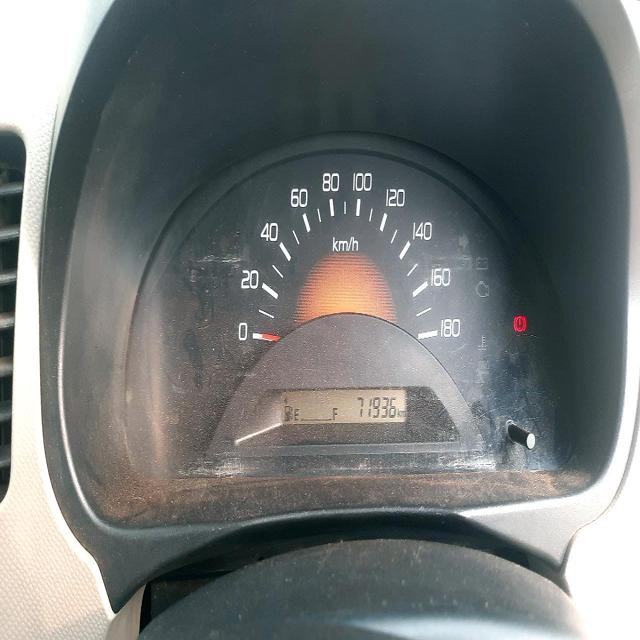odometer: (355, 393, 399, 422)
